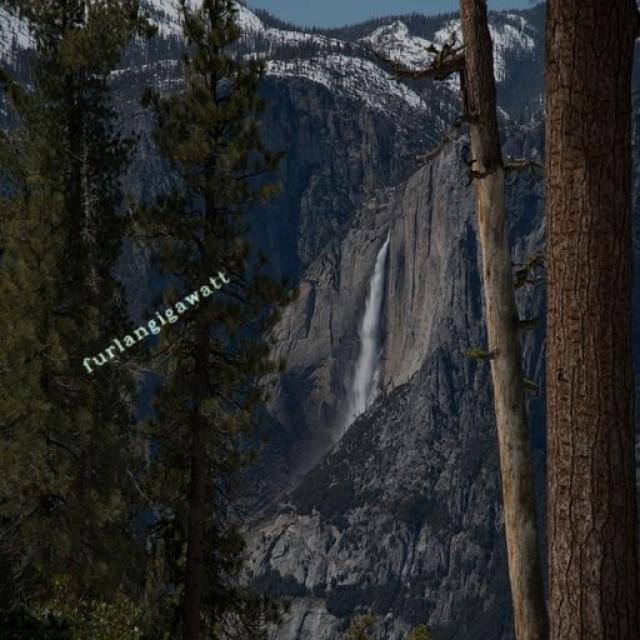watermark: (81, 264, 230, 376)
